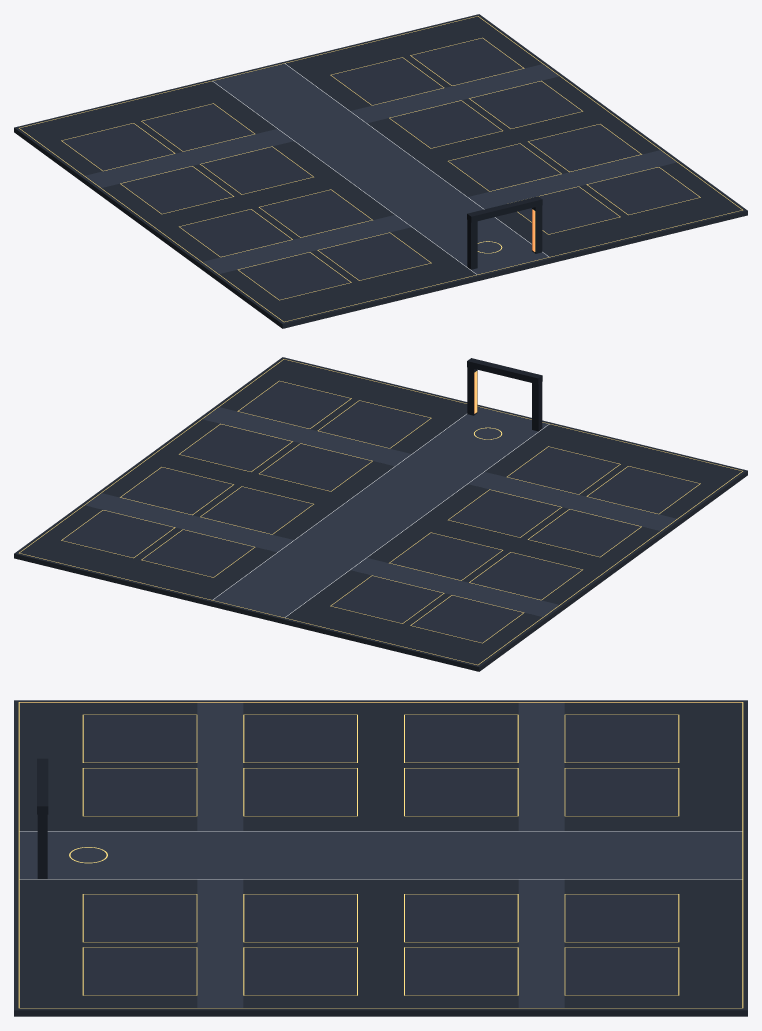
The picture shows the model from 3 angles, top to bottom: view 1: azimuth 30°, elevation 25°; view 2: azimuth 150°, elevation 25°; view 3: azimuth 270°, elevation 25°; orthographic projection. The views are drawn at different scales.
Visible parts, largest first — view 1: district_vertical.lod1; view 2: district_vertical.lod1; view 3: district_vertical.lod1.
Part boxes in pixels (x1,y1,x2,y2): district_vertical.lod1: (14, 14, 747, 328); district_vertical.lod1: (14, 357, 747, 671); district_vertical.lod1: (14, 700, 747, 1016).
Size of the model in its own units: 64 by 7.62 by 64.
